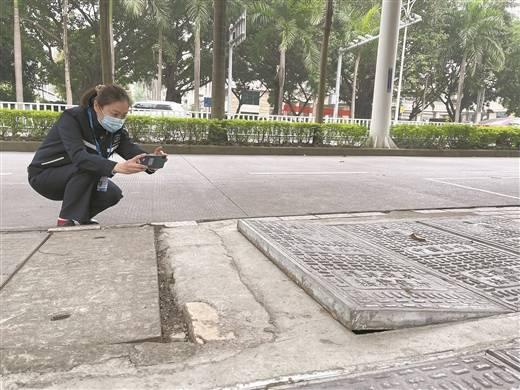wellcover: (204, 198, 514, 358)
